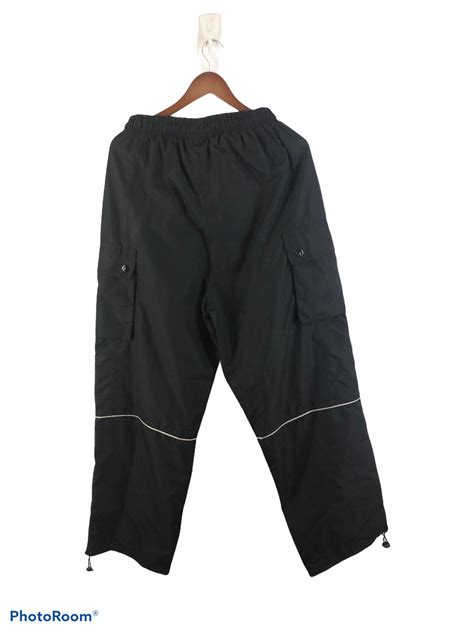nylon: (86, 106, 388, 578)
